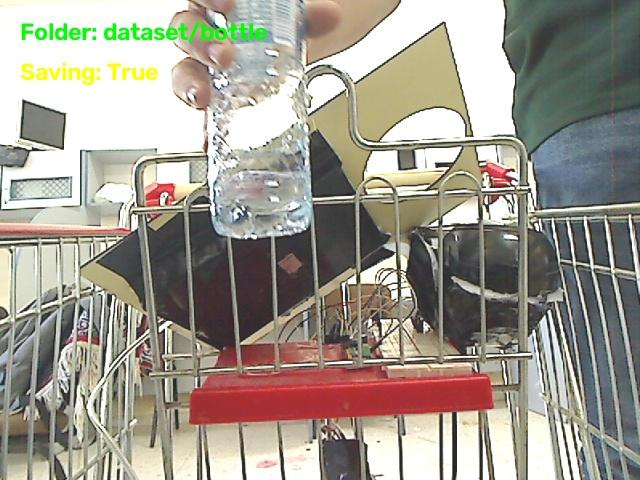can: (204, 7, 311, 236)
